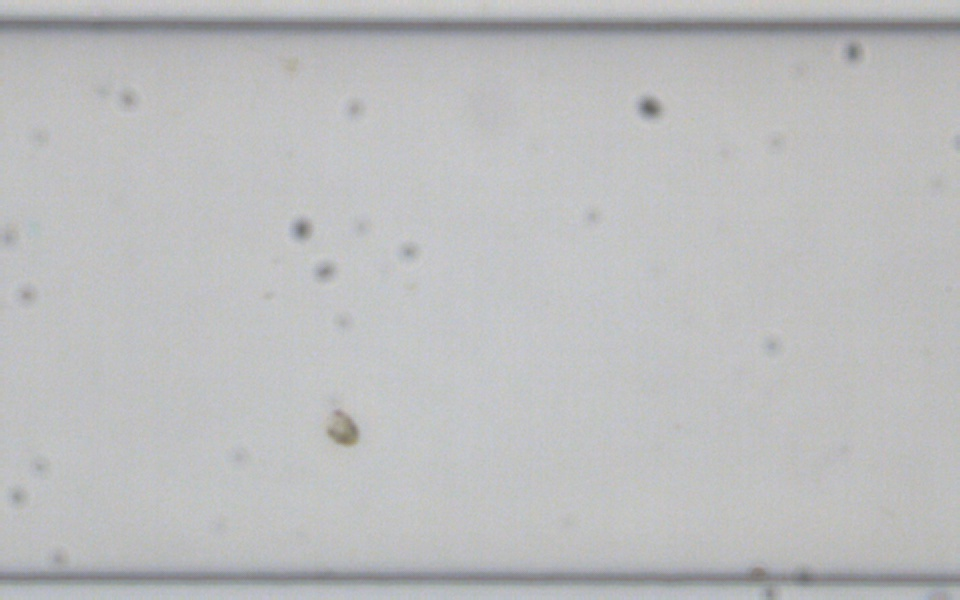Dunaliella salina: (320, 404, 360, 450)
